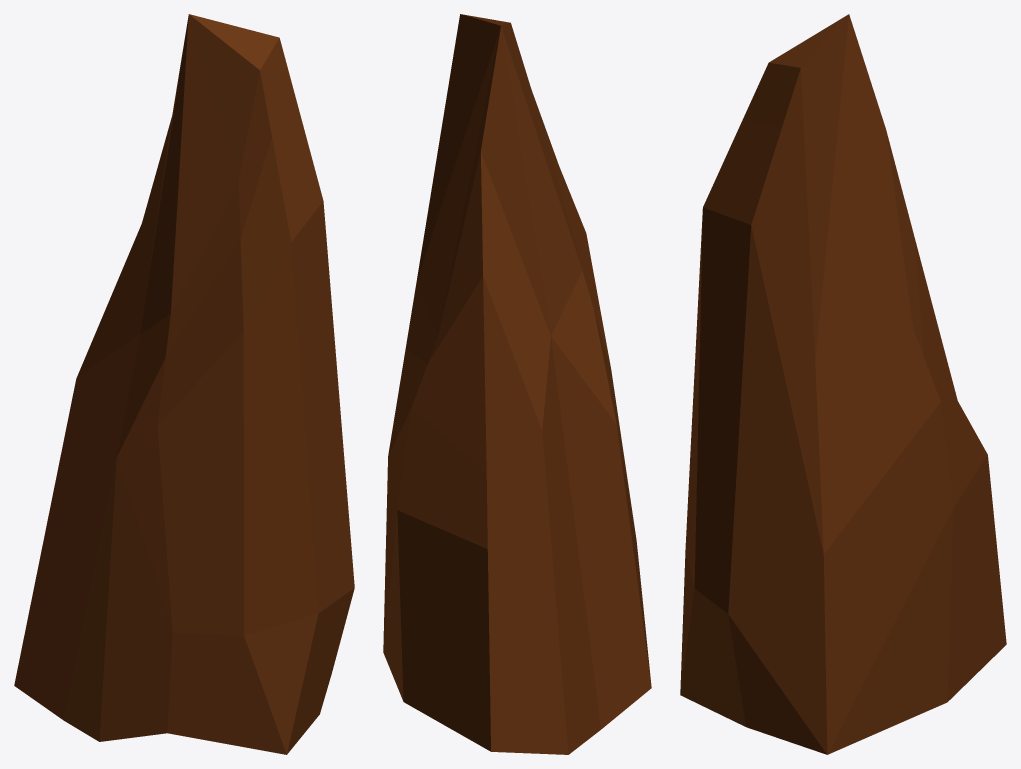
The model's file is roca_3.FBX.
The picture shows the model from 3 angles, left to right: view 1: azimuth 30°, elevation 25°; view 2: azimuth 150°, elevation 25°; view 3: azimuth 270°, elevation 25°; orthographic projection. The views are drawn at different scales.
Visible parts, largest first — view 1: Sphere004; view 2: Sphere004; view 3: Sphere004.
Part boxes in pixels (x1=…): Sphere004: x1=14, y1=14, x2=354, y2=754; Sphere004: x1=383, y1=14, x2=651, y2=754; Sphere004: x1=680, y1=14, x2=1006, y2=754.
Bounding box in the file's own units: 1.96 × 5.12 × 2.21.
